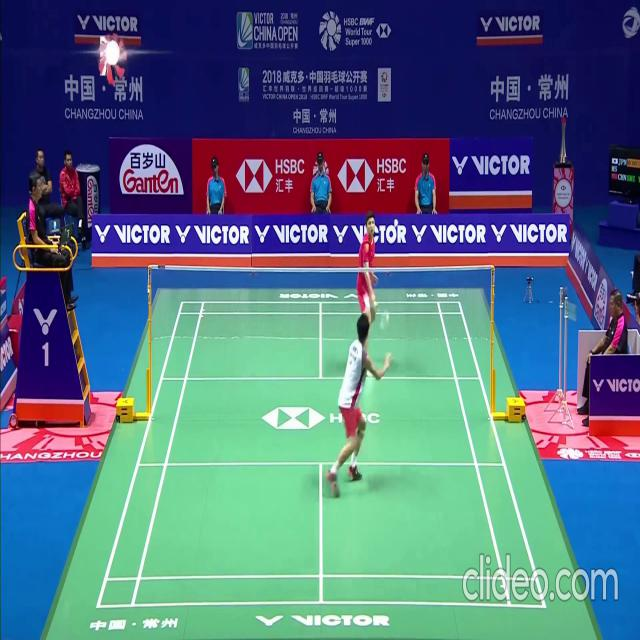Shuttlecock: (394, 218, 399, 225)
